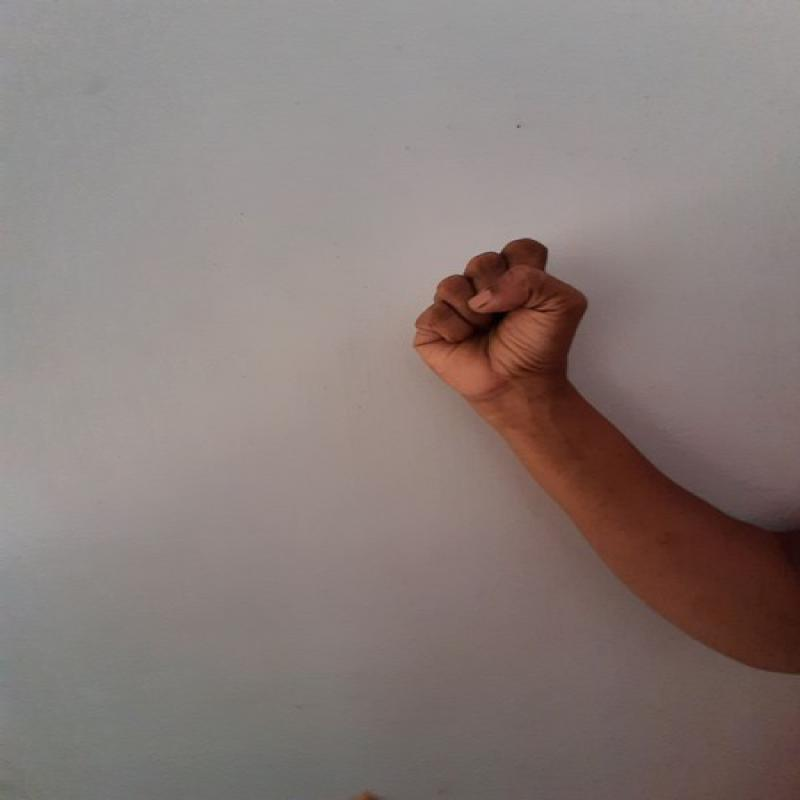Mushti: (400, 231, 592, 423)
